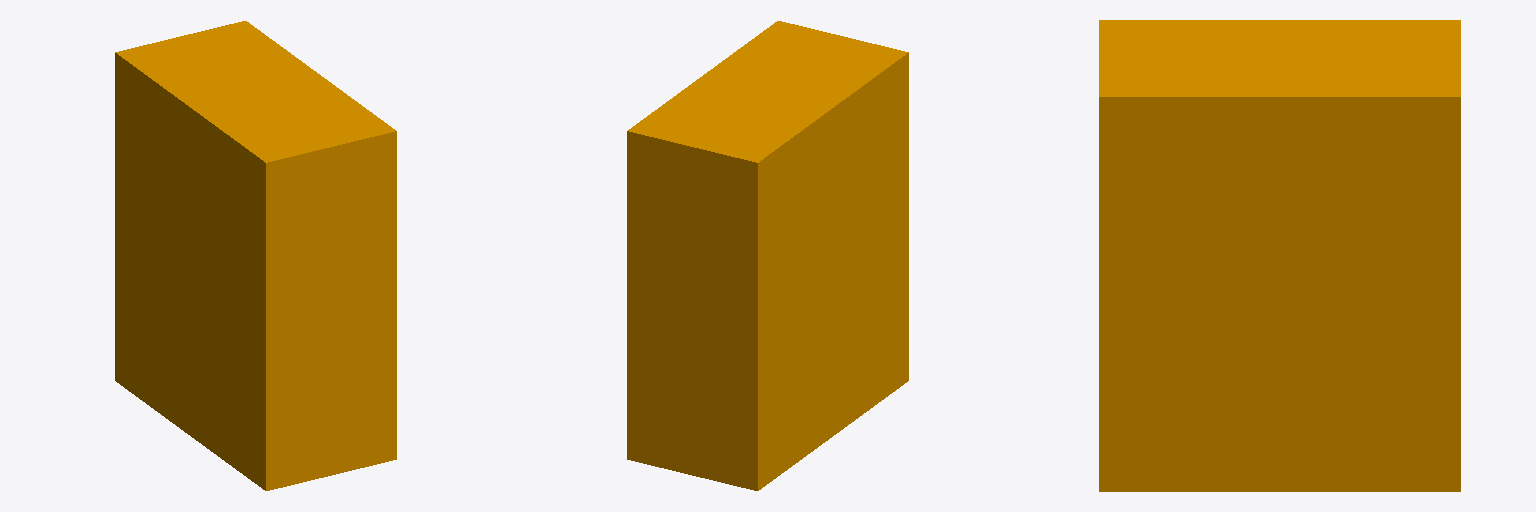
The robot description file, URDF, robot "ros_basics_lego_block":
<robot name="ros_basics_lego_block">
  <link name="my_block">
    <inertial>
      <origin xyz="0 0 0" />
      <mass value="1.0" />
      <inertia ixx="0.166667" ixy="0.0" ixz="0.0" iyy="0.166667" iyz="0.0" izz="0.166667" />
    </inertial>
    <visual>
      <origin xyz="0 0 0"/>
      <geometry>
        <box size="0.03 0.06 0.072" />
      </geometry>
    </visual>
    <collision>
      <origin xyz="0 0 0"/>
      <geometry>
        <box size="0.03 0.06 0.072" />
      </geometry>
    </collision>
  </link>
  <gazebo reference="my_block">
    <material>Gazebo/Blue</material>
  </gazebo>
</robot>

--- What the picture shows (computed from the rendered views, not written in the file) ---
3 views of the same robot in one strip: view 1: azimuth 30°, elevation 25°; view 2: azimuth 150°, elevation 25°; view 3: azimuth 270°, elevation 25° (orthographic).
Robot: ros_basics_lego_block — 1 links, 0 joints (none); root link my_block; default pose: every joint at zero.
Links seen in each view (by area): view 1: my_block; view 2: my_block; view 3: my_block.
Boxes of the visible links, x1,y1,x2,y2 form: my_block: (115, 21, 396, 490); my_block: (627, 21, 908, 490); my_block: (1099, 20, 1460, 491).
Size in the robot's own frame: 0.03 by 0.06 by 0.072 metres.
Geometry: primitives only (box / cylinder / sphere), no mesh files.